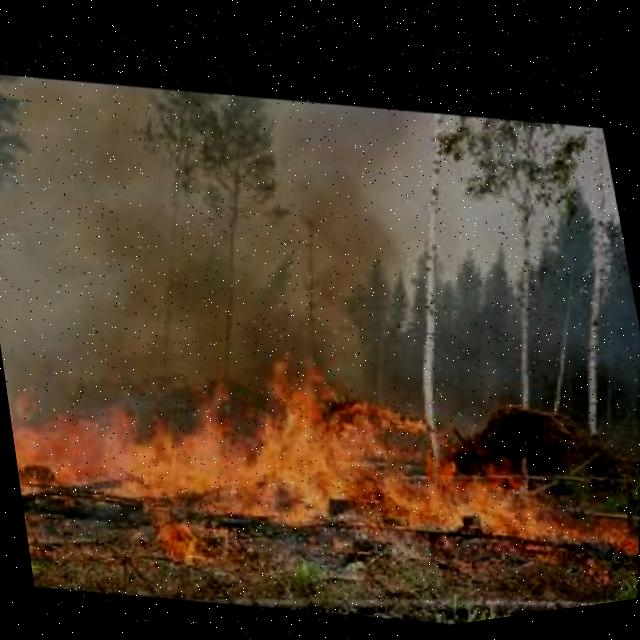fire: (178, 351, 429, 538), (11, 390, 229, 526), (410, 434, 559, 552)
